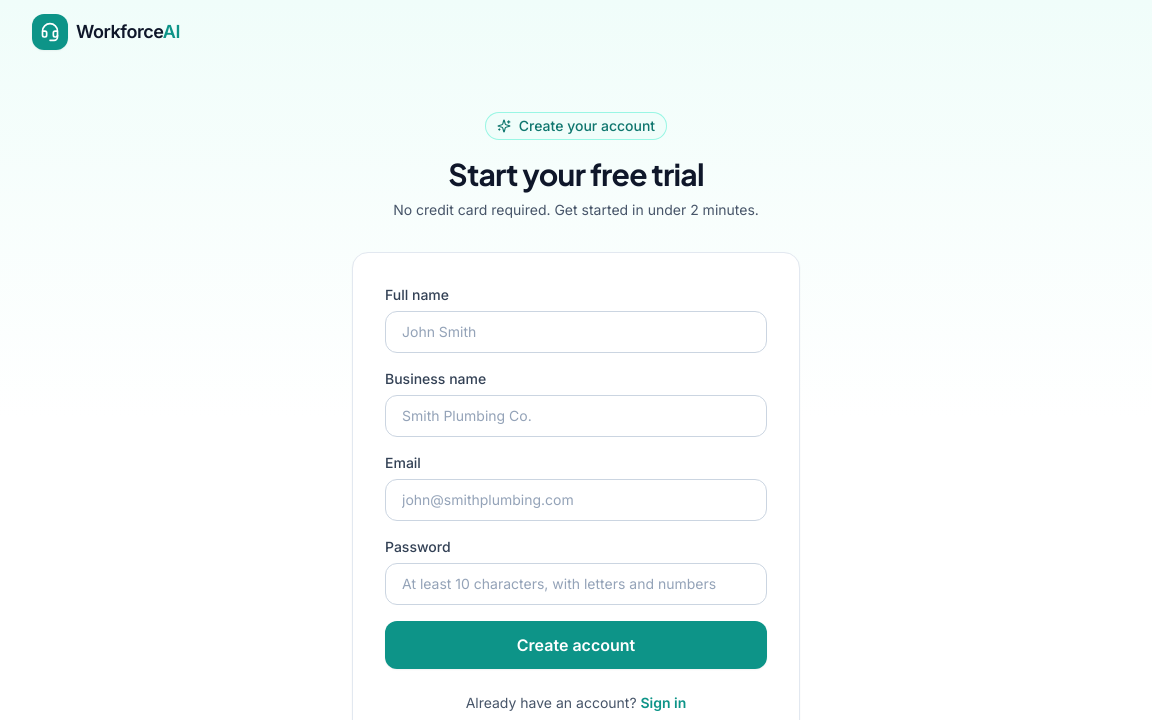
AuthPage password recovery › shows an email-specific message when the reset email is rate limited
Click the button "Sign in": x=663, y=703 x1=640 y1=693 x2=686 y2=713
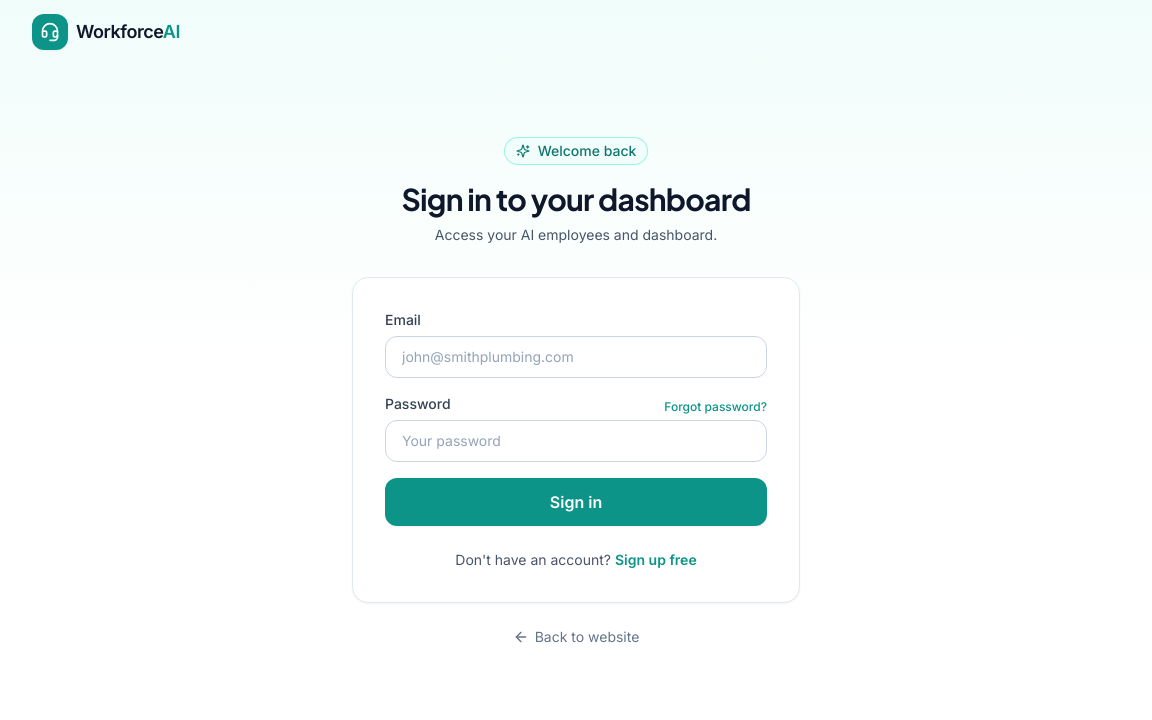
Click the button "Forgot password?": x=716, y=407 x1=664 y1=399 x2=767 y2=415
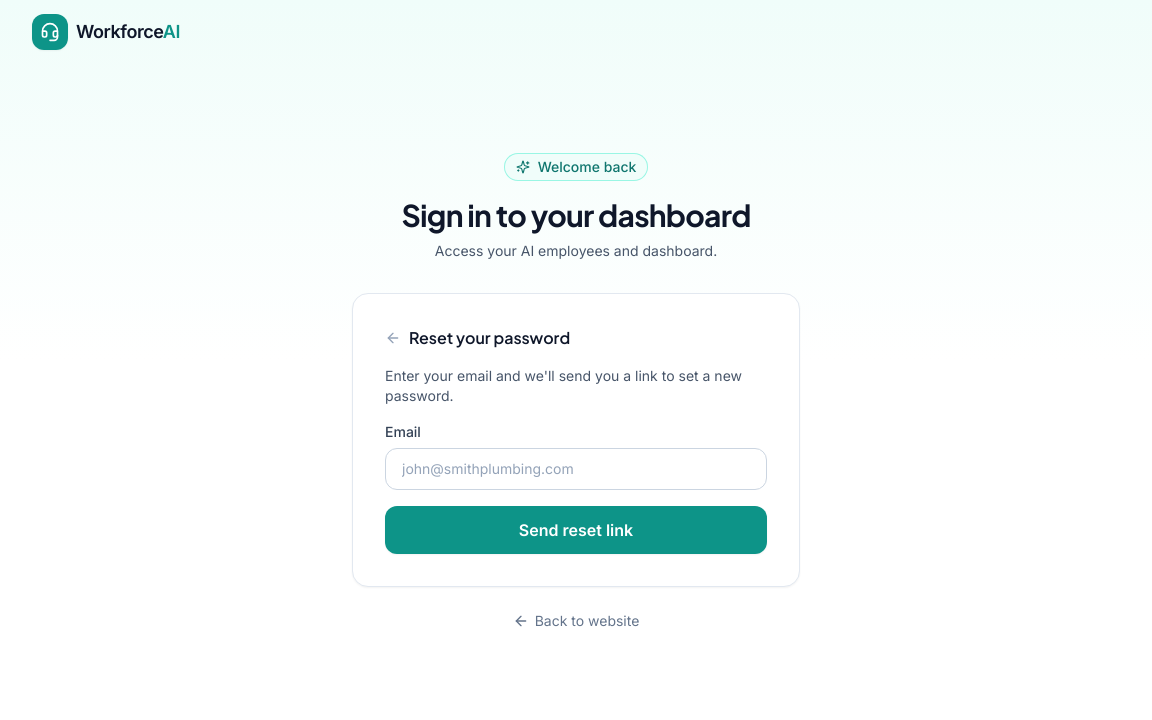
In the field labelled "Email": x=576, y=469 x1=385 y1=448 x2=767 y2=490, type "jane@example.com"
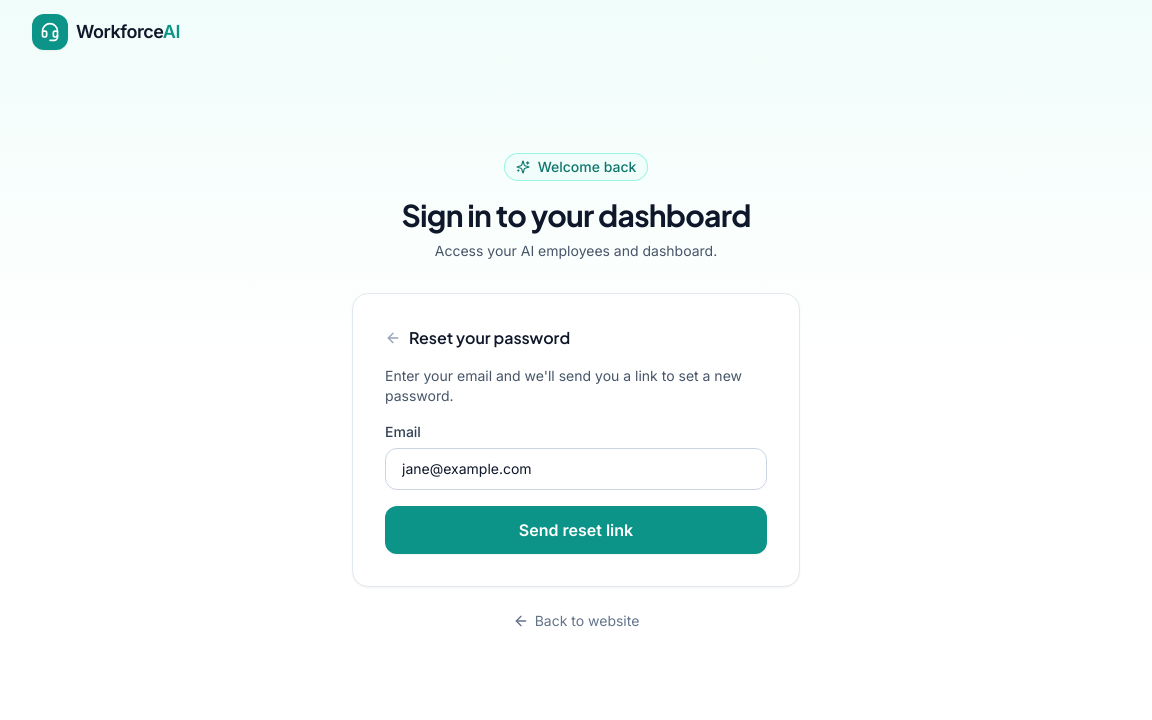
Click the button "Send reset link": x=576, y=530 x1=385 y1=506 x2=767 y2=554
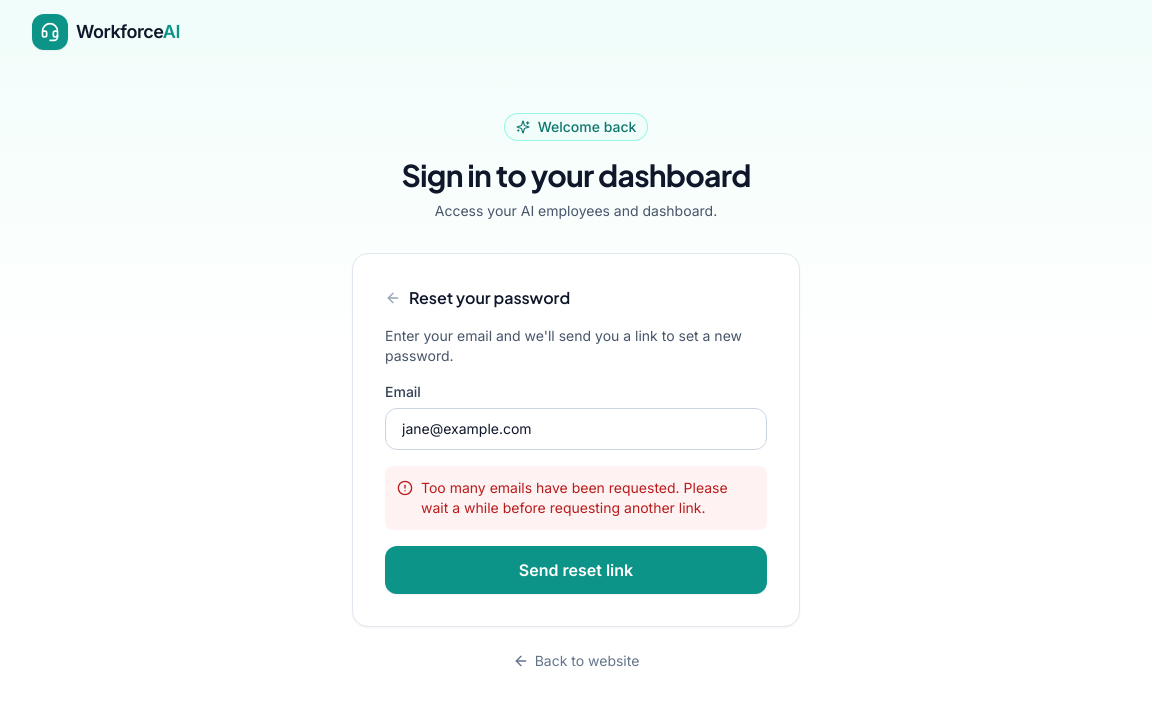
Expected: the text "Too many emails have been requested" is shown, x1=421 y1=479 x2=728 y2=516
